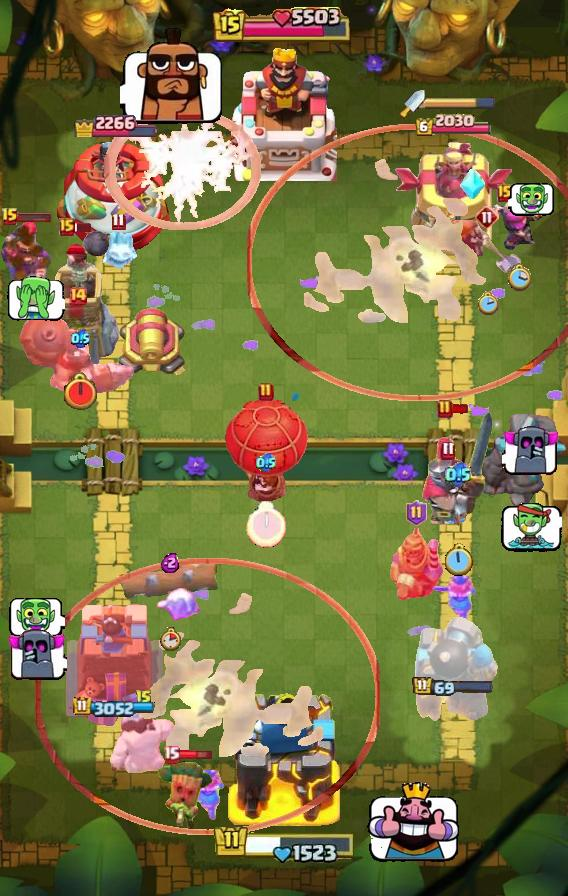bar: (395, 142, 514, 256)
barbarian-evolution: (103, 108, 262, 230)
bat: (96, 232, 140, 272)
cannon-cart: (221, 394, 311, 504)
cannoneer-tower: (478, 413, 568, 515)
clock: (212, 821, 356, 863), (213, 7, 355, 45)
electro-spirit: (445, 462, 471, 488), (161, 551, 180, 573), (256, 453, 276, 473), (70, 329, 90, 347)
elixir: (246, 500, 286, 547), (61, 372, 99, 412), (443, 543, 473, 577), (507, 264, 531, 293), (477, 291, 499, 315), (160, 627, 181, 651)
elixir-golem-big: (0, 221, 58, 303)
emote: (178, 748, 213, 761), (16, 211, 52, 223), (450, 403, 469, 415), (73, 222, 93, 233)
goblin-barrel: (156, 755, 214, 833)
hog-rider: (452, 218, 522, 274), (430, 574, 478, 628), (178, 768, 226, 822)
king-tower: (226, 688, 342, 826), (231, 45, 337, 181)
king-tower-bar: (425, 97, 495, 111)
minion: (117, 558, 223, 604)
mirror: (155, 588, 205, 626)
pad_2: (459, 169, 485, 201)
queen-tower: (51, 137, 177, 255), (61, 599, 166, 731)
rage: (109, 707, 179, 773)
ram-rider: (388, 528, 444, 602)
royal-ghost: (36, 558, 380, 835), (248, 124, 568, 401)
royal-recruit: (115, 307, 187, 381)
selected: (71, 108, 157, 137), (414, 113, 492, 139), (412, 676, 494, 698), (73, 695, 155, 716)
skeleton: (120, 25, 226, 126), (367, 781, 460, 864), (5, 627, 66, 681), (503, 424, 562, 476), (502, 504, 563, 553), (7, 275, 65, 321), (7, 596, 64, 639), (509, 182, 556, 217)
text: (475, 205, 499, 229), (405, 500, 426, 526), (68, 286, 88, 306), (1, 207, 19, 227), (135, 689, 153, 709), (163, 745, 181, 763), (258, 382, 274, 402), (437, 399, 453, 419), (497, 184, 513, 202), (59, 218, 75, 236), (110, 213, 125, 231)
tombstone: (490, 198, 548, 252)
tower-bar: (403, 615, 503, 731)
wall-breaker-evolution: (421, 411, 495, 531)
wizard: (18, 310, 138, 400)
zappy: (36, 230, 124, 374)
